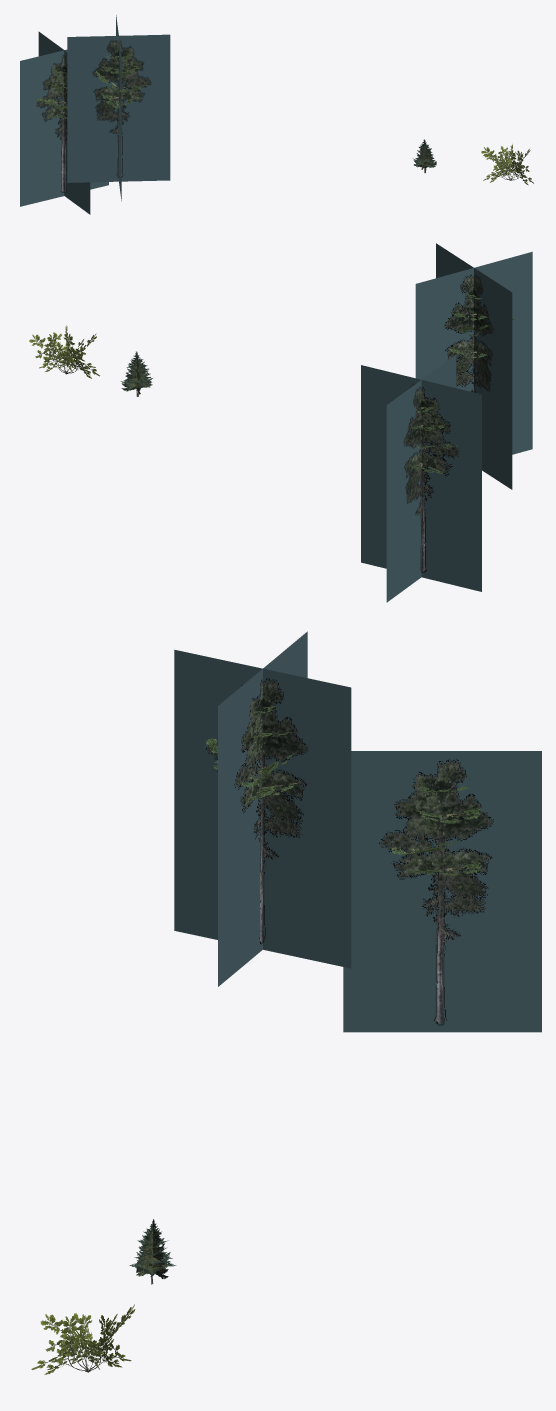
Rendered from forest-selected.glb.
3 renders of one model, top to bottom at view 1: azimuth 30°, elevation 25°; view 2: azimuth 150°, elevation 25°; view 3: azimuth 270°, elevation 25°, orthographic. The views are drawn at different scales.
Parts seen in each view (by area): view 1: 05ade0e713892be558511d706fa6c547-no-bg-preview (carve.photos (×4), 3f84aea6648aa6cc5af5f07ee43c6056-no-bg-preview (carve.photos, a37081a7611992c6f6d9dc1786dbc08d|cc24eba76e0e306bc19df7b7a92; view 2: 05ade0e713892be558511d706fa6c547-no-bg-preview (carve.photos (×2), 3f84aea6648aa6cc5af5f07ee43c6056-no-bg-preview (carve.photos, a37081a7611992c6f6d9dc1786dbc08d|cc24eba76e0e306bc19df7b7a92; view 3: 05ade0e713892be558511d706fa6c547-no-bg-preview (carve.photos (×4), 3f84aea6648aa6cc5af5f07ee43c6056-no-bg-preview (carve.photos, a37081a7611992c6f6d9dc1786dbc08d|cc24eba76e0e306bc19df7b7a92.
Part boxes in pixels (box(x1,y1,x2,y2)): 05ade0e713892be558511d706fa6c547-no-bg-preview (carve.photos (×4): box(20, 15, 170, 214); 3f84aea6648aa6cc5af5f07ee43c6056-no-bg-preview (carve.photos: box(481, 144, 533, 185); a37081a7611992c6f6d9dc1786dbc08d|cc24eba76e0e306bc19df7b7a92: box(413, 139, 435, 173); 05ade0e713892be558511d706fa6c547-no-bg-preview (carve.photos (×2): box(361, 243, 532, 602); 3f84aea6648aa6cc5af5f07ee43c6056-no-bg-preview (carve.photos: box(29, 325, 99, 378); a37081a7611992c6f6d9dc1786dbc08d|cc24eba76e0e306bc19df7b7a92: box(121, 351, 152, 396); 05ade0e713892be558511d706fa6c547-no-bg-preview (carve.photos (×4): box(174, 631, 541, 1032); 3f84aea6648aa6cc5af5f07ee43c6056-no-bg-preview (carve.photos: box(31, 1304, 135, 1374); a37081a7611992c6f6d9dc1786dbc08d|cc24eba76e0e306bc19df7b7a92: box(136, 1219, 169, 1284).
Bounding box in the file's own units: 21.3 × 9.66 × 11.73.
Materials: 5 (5 with a texture image).
